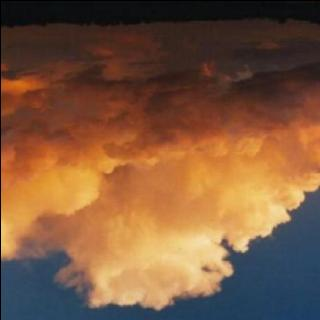Cumulonimbus: (0, 44, 320, 310)
